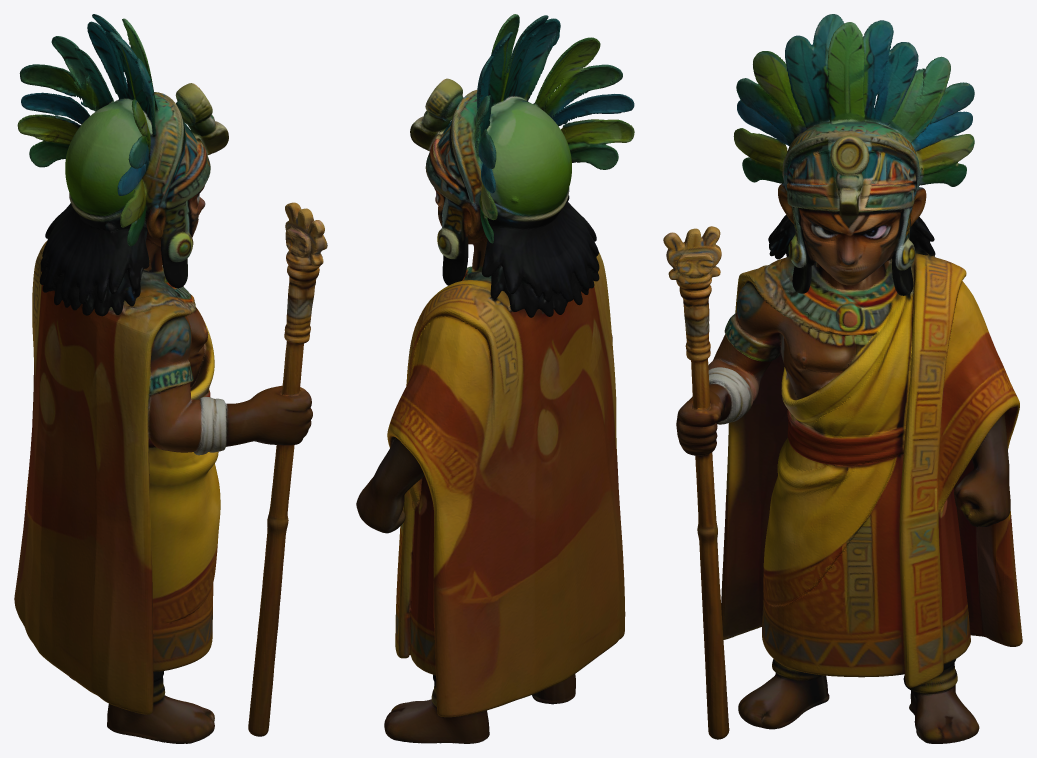
The model's file is 玛雅祭司1.glb.
3 renders of one model, left to right at view 1: azimuth 30°, elevation 25°; view 2: azimuth 150°, elevation 25°; view 3: azimuth 270°, elevation 25°, orthographic.
Visible parts, largest first — view 1: tripo_node_29063cdd-42d4-46bd-bc72-c72d59b8db9e; view 2: tripo_node_29063cdd-42d4-46bd-bc72-c72d59b8db9e; view 3: tripo_node_29063cdd-42d4-46bd-bc72-c72d59b8db9e.
Boxes of the visible parts, box(x1,y1,x2,y2) form: tripo_node_29063cdd-42d4-46bd-bc72-c72d59b8db9e: box(14, 14, 327, 743); tripo_node_29063cdd-42d4-46bd-bc72-c72d59b8db9e: box(356, 14, 634, 743); tripo_node_29063cdd-42d4-46bd-bc72-c72d59b8db9e: box(663, 14, 1022, 743).
Bounding box in the file's own units: 0.2838 × 1 × 0.4754.
Materials: 1 (1 with a texture image).
